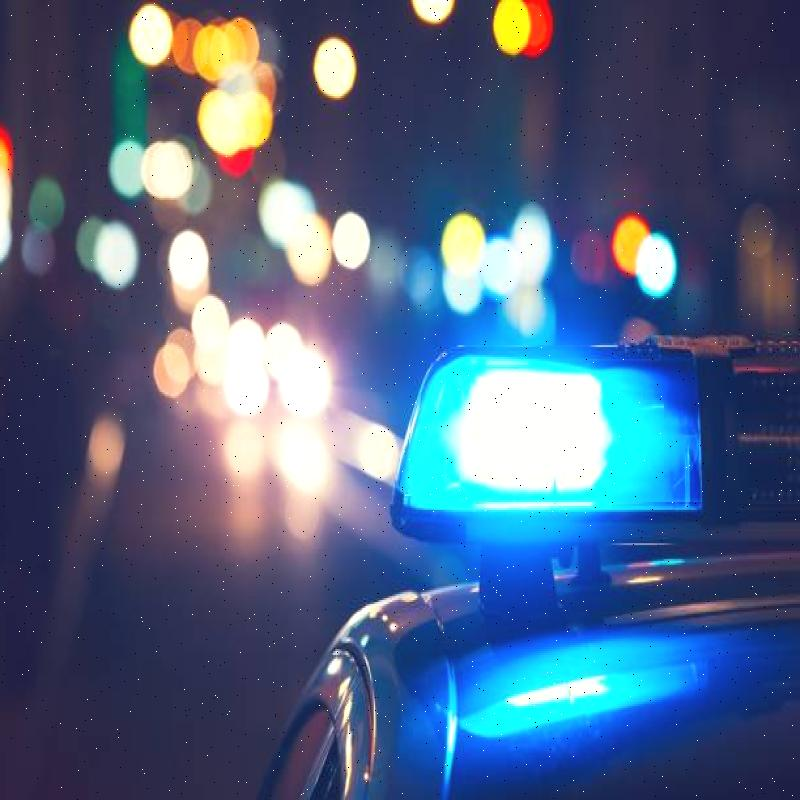AmbulanceSiren: (355, 314, 800, 611)
